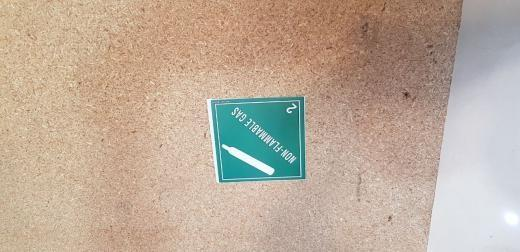non-flammable-gas: (213, 98, 305, 182)
